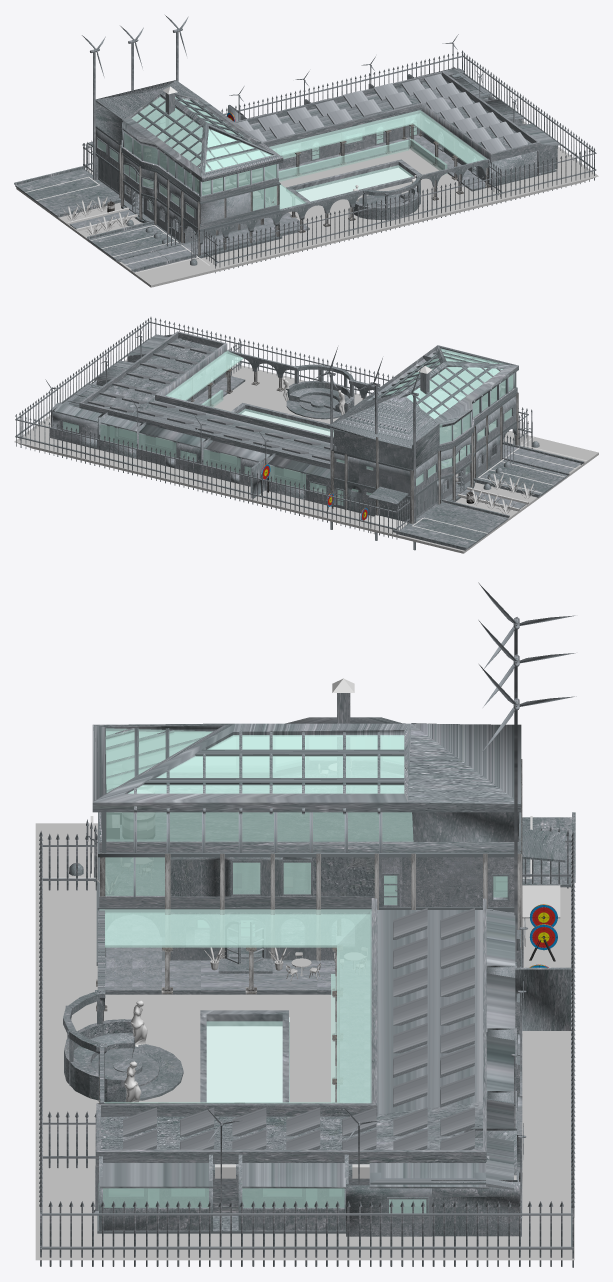
The model's file is Scene2 (74tex).fbx.
The picture shows the model from 3 angles, top to bottom: view 1: azimuth 30°, elevation 25°; view 2: azimuth 150°, elevation 25°; view 3: azimuth 270°, elevation 25°; orthographic projection. The views are drawn at different scales.
Parts seen in each view (by area): view 1: polySurface4719.002, polySurface7143.008, polySurface7164.001, polySurface7562.028, polySurface6201.002, polySurface6136.030, polySurface7562.024, polySurface7562.025, polySurface7143.001, polySurface7012.001, polySurface7012.009, polySurface6201.010 (+29 smaller); view 2: polySurface7143.008, polySurface4719.002, polySurface7562.028, polySurface7164.001, polySurface6201.002, polySurface7143.001, polySurface7012.001, polySurface7562.025, polySurface7012.026, polySurface4716.010, polySurface7579.009, polySurface6136.030 (+38 smaller); view 3: polySurface4719.002, polySurface7143.008, polySurface7562.028, polySurface6136.030, polySurface7562.024, polySurface7562.025, polySurface7012.009, polySurface7164.001, polySurface7143.001, polySurface7033.001, polySurface6201.010, polySurface4716.010 (+28 smaller).
Boxes of the visible parts, x1,y1,x2,y2 form: polySurface4719.002: (16, 120, 598, 287); polySurface7143.008: (236, 68, 560, 161); polySurface7164.001: (14, 166, 309, 272); polySurface7562.028: (95, 80, 283, 182); polySurface6201.002: (167, 50, 595, 273); polySurface6136.030: (87, 98, 557, 242); polySurface7562.024: (269, 110, 486, 209); polySurface7562.025: (132, 97, 271, 174); polySurface7143.001: (235, 71, 540, 162); polySurface7012.001: (96, 128, 250, 227); polySurface7012.009: (124, 112, 276, 196); polySurface6201.010: (463, 52, 592, 178); polySurface7143.008: (50, 334, 333, 479); polySurface4719.002: (14, 359, 598, 553); polySurface7562.028: (330, 345, 518, 448); polySurface7164.001: (393, 444, 581, 550); polySurface6201.002: (15, 317, 532, 532); polySurface7143.001: (79, 331, 333, 468); polySurface7012.001: (359, 396, 516, 496); polySurface7562.025: (378, 348, 504, 419); polySurface7012.026: (333, 421, 439, 469); polySurface4716.010: (286, 364, 354, 419); polySurface7579.009: (331, 392, 518, 523); polySurface6136.030: (96, 334, 516, 504); polySurface4719.002: (35, 823, 574, 1260); polySurface7143.008: (99, 908, 515, 1189); polySurface7562.028: (92, 717, 521, 814); polySurface6136.030: (99, 829, 565, 1233); polySurface7562.024: (99, 909, 371, 1103); polySurface7562.025: (105, 728, 404, 793); polySurface7012.009: (101, 737, 413, 852); polySurface7164.001: (105, 812, 575, 994); polySurface7143.001: (96, 898, 486, 1167); polySurface7033.001: (120, 771, 410, 838); polySurface6201.010: (48, 1201, 563, 1266); polySurface4716.010: (63, 991, 183, 1102).
Size of what is drawn, in the model's own units: 610 by 229 by 318.
